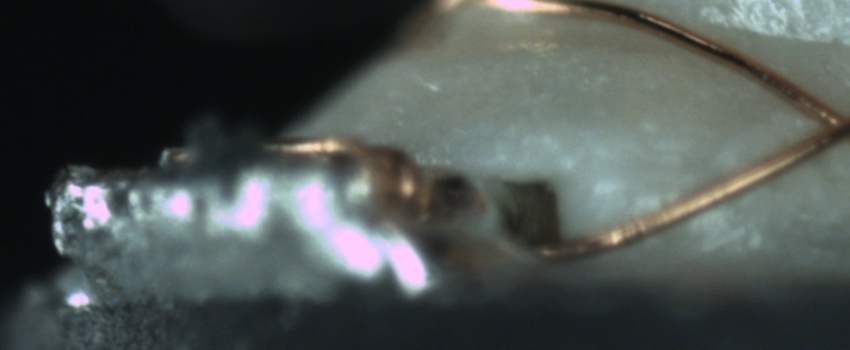CL: (799, 90, 850, 159)
TE: (261, 133, 437, 219)
